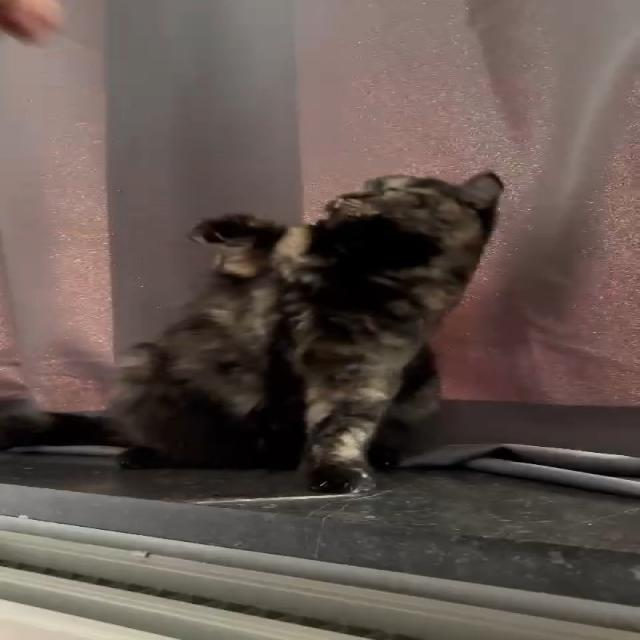authorized: (100, 170, 505, 494)
